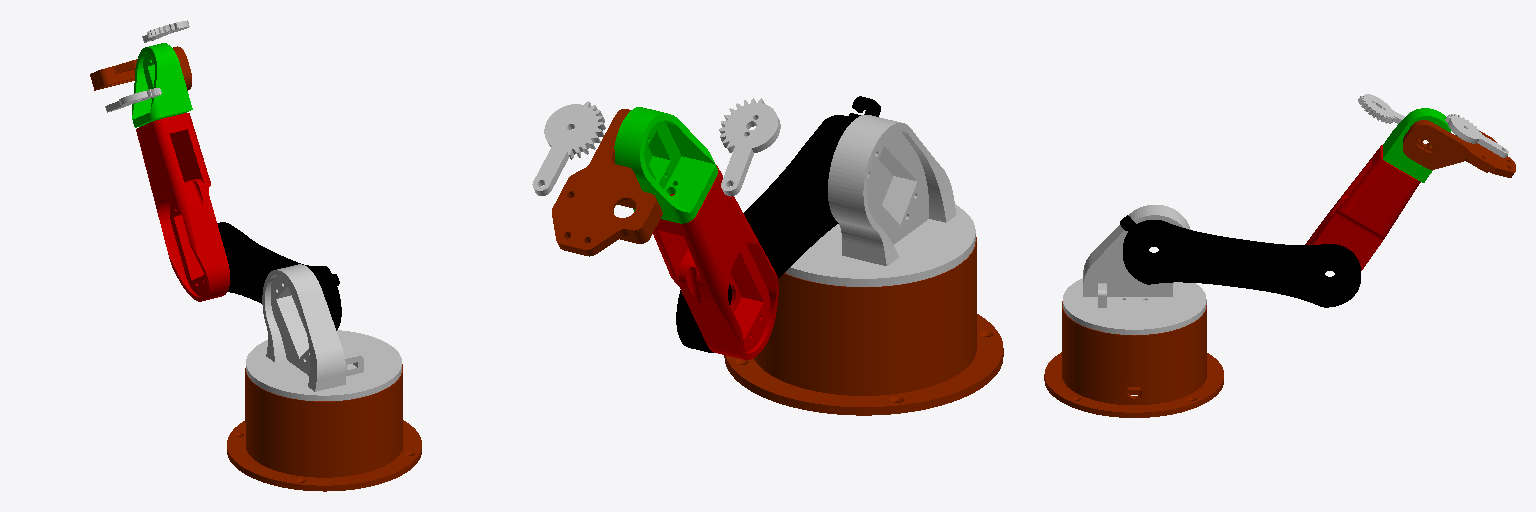
The robot description file, URDF, robot "ros_mani":
<?xml version="1.0"?>
<robot name="ros_mani">
	<link name="base_link">
		<visual>
			<geometry>
				<mesh filename="package://ros_manipulator_project/meshes/MeshBody1.stl" scale="0.002 0.002 0.002"/>
			</geometry>
			<material name="orange" />
			<origin rpy="1.57 0 0" xyz="-1.2 1.2 0" />
		</visual>
	</link>

	<link name="mani_lid_link">
		<visual>
			<geometry>
				<mesh filename="package://ros_manipulator_project/meshes/MeshBody2.stl" scale="0.002 0.002 0.002"/>
			</geometry>
			<material name="white" />
			<origin rpy="1.57 0 0" xyz="-0.96 0.96 0" />
		</visual>
	</link>

	<link name="mani_arm01_link">
		<visual>
			<geometry>
				<mesh filename="package://ros_manipulator_project/meshes/MeshBody3.stl" scale="0.002 0.002 0.002"/>
			</geometry>
			<material name="black" />
			<origin rpy="0 0 -0.15" xyz="-0.62 -0.42 0" />
		</visual>
	</link>

	<link name="mani_arm02_link">
		<visual>
			<geometry>
				<mesh filename="package://ros_manipulator_project/meshes/MeshBody4.stl" scale="0.002 0.002 0.002"/>
			</geometry>
			<material name="red" />
			<origin rpy="0 0 0" xyz="-0.38 -0.52 -0.12" />
		</visual>
	</link>

	<link name="mani_arm03_link">
		<visual>
			<geometry>
				<mesh filename="package://ros_manipulator_project/meshes/MeshBody5.stl" scale="0.002 0.002 0.002"/>
			</geometry>
			<material name="green" />
			<origin rpy="-1.57 0 0" xyz="-0.24 -0.28 0" />
		</visual>
	</link>

	<link name="mani_gripper_base_link">
		<visual>
			<geometry>
				<mesh filename="package://ros_manipulator_project/meshes/MeshBody6.stl" scale="0.002 0.002 0.002"/>
			</geometry>
			<material name="orange" />
			<origin rpy="-1.57 1.57 -1.57" xyz="-0.262 -0.28 0.25" />
		</visual>
	</link>

	<link name="mani_left_gear_link">
		<visual>
			<geometry>
				<mesh filename="package://ros_manipulator_project/meshes/MeshBody8.stl" scale="0.002 0.002 0.002"/>
			</geometry>
			<material name="white" />
			<origin rpy="1.57 3.1416 0" xyz="0 0 0" />
		</visual>
	</link>

	<link name="mani_right_gear_link">
		<visual>
			<geometry>
				<mesh filename="package://ros_manipulator_project/meshes/MeshBody7.stl" scale="0.002 0.002 0.002"/>
			</geometry>
			<material name="white" />
			<origin rpy="0 0 0" xyz="0 0 0" />
		</visual>
	</link>

	<joint name="base_joint" type="revolute">
		<parent link="base_link" />
		<child link="mani_lid_link" />
		<axis xyz="0 0 1" />
		<limit effort="1000.0" lower="0.0" upper="3.1416" velocity="1.0" />
		<origin rpy="0 0 0" xyz="0 0 1.12" />
	</joint>

	<joint name="lid_joint" type="revolute">
		<parent link="mani_lid_link" />
		<child link="mani_arm01_link" />
		<axis xyz="0 0 1" />
		<limit effort="1000.0" lower="0.0" upper="3.1416" velocity="1.0" />
		<origin rpy="0 1.57 0" xyz="-0.07 0.25 0.83" />
	</joint>

	<joint name="arm01_joint" type="revolute">
		<parent link="mani_arm01_link" />
		<child link="mani_arm02_link" />
		<axis xyz="0 0 1" />
		<limit effort="1000.0" lower="0.0" upper="3.1416" velocity="1.0" />
		<origin rpy="0 3.1416 1" xyz="0.335 2.38 0" />
	</joint>

	<joint name="arm02_joint" type="revolute">
		<parent link="mani_arm02_link" />
		<child link="mani_arm03_link" />
		<axis xyz="0 0 1" />
		<limit effort="1000.0" lower="0.0" upper="3.1416" velocity="1.0" />
		<origin rpy="1.57 0 0" xyz="-0.1 1.8 0.15" />
	</joint>

	<joint name="arm03_joint" type="revolute">
		<parent link="mani_arm03_link" />
		<child link="mani_gripper_base_link" />
		<axis xyz="0 0 1" />
		<limit effort="1000.0" lower="0.0" upper="3.1416" velocity="1.0" />
		<origin rpy="1.57 3.1416 0" xyz="0.1 -0.3 -0.55" />
	</joint>

	<joint name="gripper_base_joint" type="revolute">
		<parent link="mani_gripper_base_link" />
		<child link="mani_left_gear_link" />
		<axis xyz="0 0 1" />
		<limit effort="1000.0" lower="0.0" upper="3.1416" velocity="1.0" />
		<origin rpy="1.57 0 0" xyz="0.1 -0.3 -0.55" />
	</joint>

	<joint name="sub_gripper_base_joint" type="revolute">
		<parent link="mani_gripper_base_link" />
		<child link="mani_right_gear_link" />
		<mimic joint="gripper_base_joint" />
		<axis xyz="0 1 0" />
		<limit effort="1000.0" lower="0.0" upper="3.1416" velocity="1.0" />
		<origin rpy="0 0 0" xyz="0 0.5 0" />
	</joint>

	<material name="red">
		<color rgba="0.8 0 0 1" />
	</material>
	<material name="green">
		<color rgba="0 0.8 0 1" />
	</material>
	<material name="orange">
		<color rgba="0.57 0.17 0.0 1" />
	</material>
	<material name="white">
		<color rgba="0.8 0.8 0.8 1" />
	</material>
	<material name="black">
		<color rgba="0 0 0 1" />
	</material>
</robot>

--- Render facts (derived) ---
Views: 3 orthographic renders of the robot side by side, from view 1: azimuth 30°, elevation 25°; view 2: azimuth 150°, elevation 25°; view 3: azimuth 270°, elevation 25°.
Robot: ros_mani — 8 links, 7 joints (7 revolute); root link base_link; default pose: every joint at zero.
Links seen in each view (by area): view 1: base_link, mani_lid_link, mani_arm02_link, mani_arm01_link, mani_arm03_link, mani_gripper_base_link; view 2: base_link, mani_lid_link, mani_arm02_link, mani_arm01_link, mani_gripper_base_link, mani_arm03_link, mani_right_gear_link, mani_left_gear_link; view 3: base_link, mani_arm01_link, mani_lid_link, mani_arm02_link, mani_gripper_base_link, mani_arm03_link, mani_right_gear_link, mani_left_gear_link.
Link boxes in pixels (x1,y1,x2,y2): base_link: (227,364,421,491); mani_lid_link: (246,264,401,400); mani_arm02_link: (136,113,229,301); mani_arm01_link: (217,222,341,330); mani_arm03_link: (132,43,192,127); mani_gripper_base_link: (90,46,191,90); base_link: (724,237,1003,415); mani_lid_link: (785,115,975,286); mani_arm02_link: (653,165,778,359); mani_arm01_link: (676,96,880,352); mani_gripper_base_link: (552,109,662,256); mani_arm03_link: (614,107,717,223); mani_right_gear_link: (532,101,605,195); mani_left_gear_link: (719,98,780,196); base_link: (1044,301,1223,417); mani_arm01_link: (1120,215,1360,307); mani_lid_link: (1063,205,1206,334); mani_arm02_link: (1305,145,1420,270); mani_gripper_base_link: (1403,120,1515,177); mani_arm03_link: (1383,108,1450,182); mani_right_gear_link: (1445,114,1508,157); mani_left_gear_link: (1358,94,1404,123).
Bounding box of the posed robot: 2.42 × 6.35 × 4.08 m (x, y, z).
8 mesh visuals loaded from 8 distinct referenced files (8 binary STL).